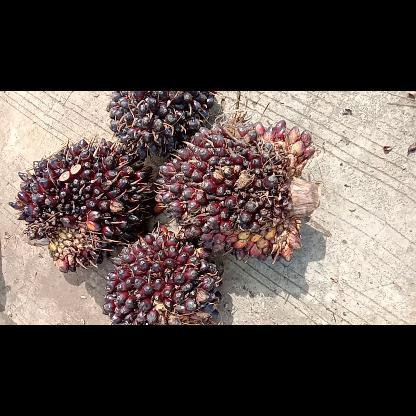TBS mentah: (152, 115, 324, 267), (5, 136, 158, 274), (100, 222, 226, 324), (106, 90, 220, 158)
